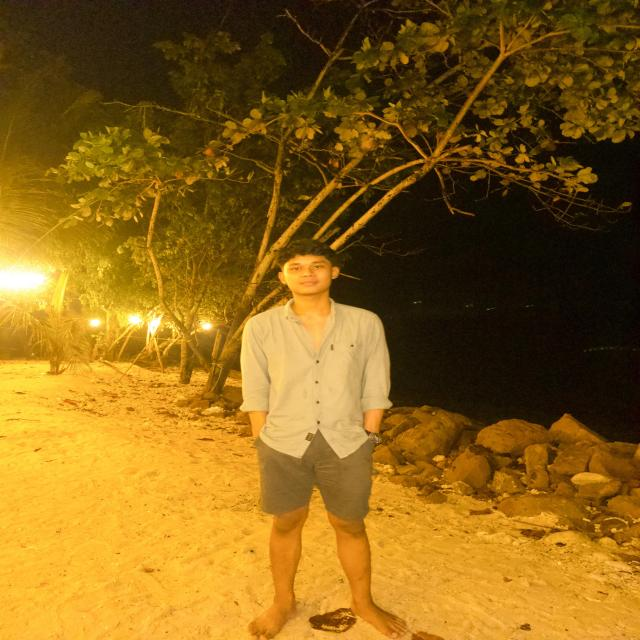nohelmet: (267, 239, 347, 300)
